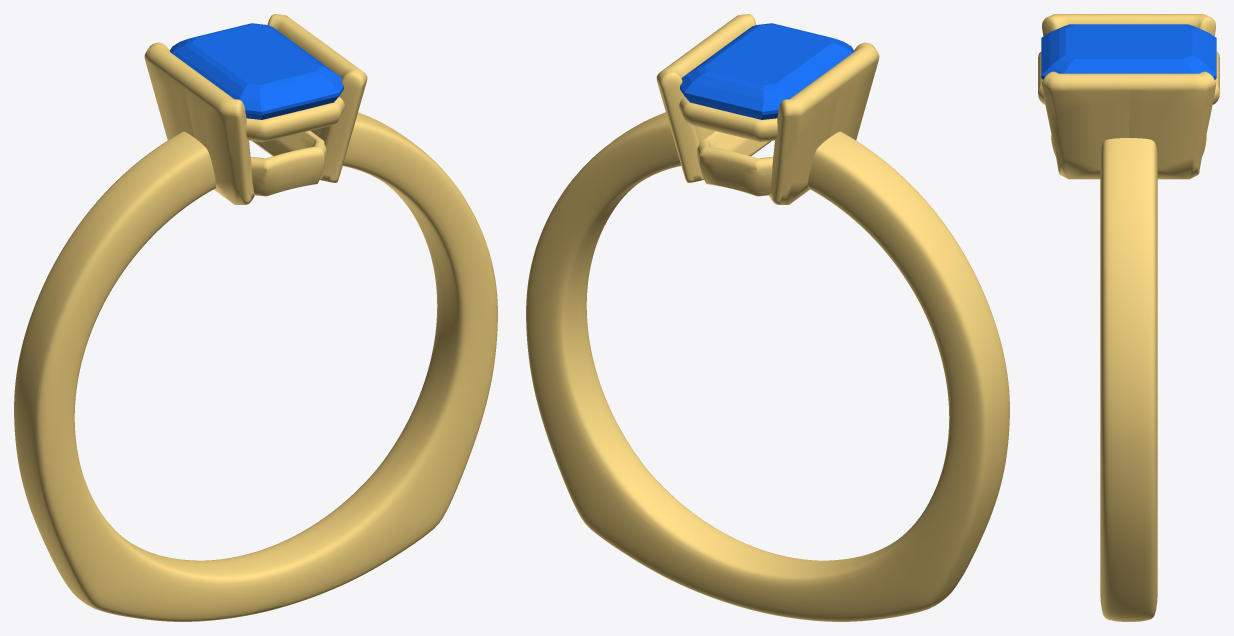
Rendered from bluesapphire-emerald-yellowgold-halfmoonbezel-europeanshank-solitaire.glb.
3 renders of one model, left to right at view 1: azimuth 30°, elevation 25°; view 2: azimuth 150°, elevation 25°; view 3: azimuth 270°, elevation 25°, orthographic.
Parts seen in each view (by area): view 1: metal, stone; view 2: metal, stone; view 3: metal, stone.
Part boxes in pixels (x1,y1,x2,y2): metal: (14, 14, 497, 621); stone: (170, 23, 343, 119); metal: (526, 14, 1009, 621); stone: (680, 23, 853, 119); metal: (1038, 14, 1219, 621); stone: (1041, 24, 1216, 79).
Size of the model in its own units: 20.11 by 22.74 by 6.94.
